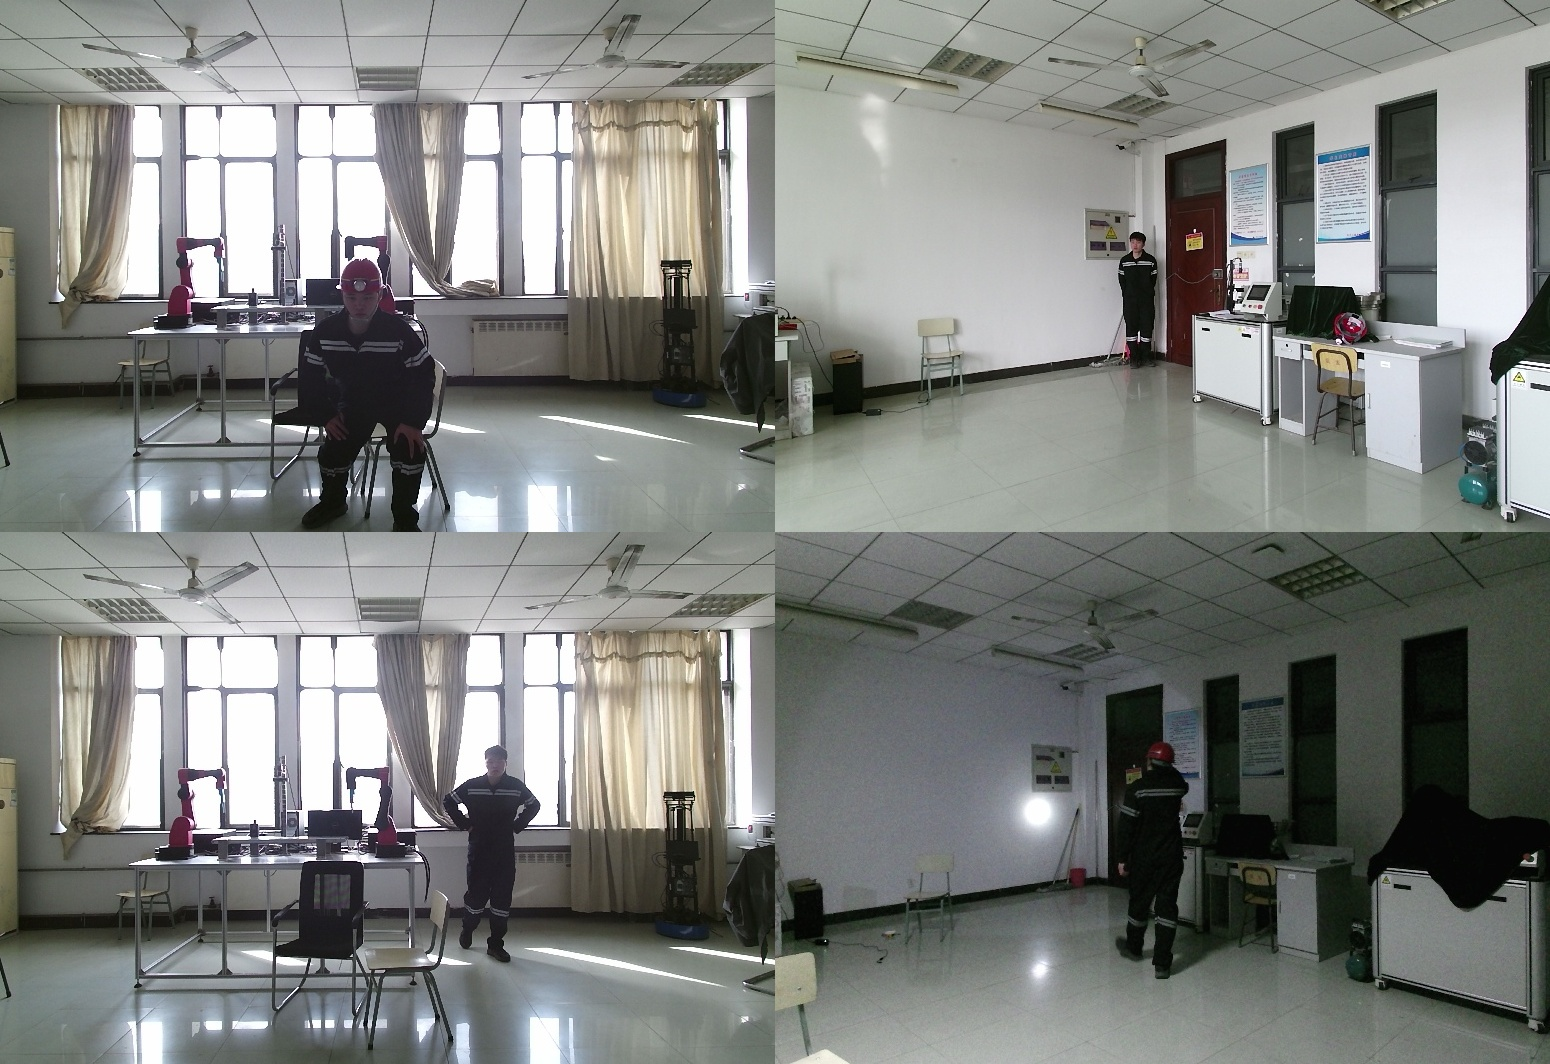person: (301, 259, 453, 532), (446, 750, 540, 967), (1117, 741, 1200, 977), (1116, 232, 1161, 370)
